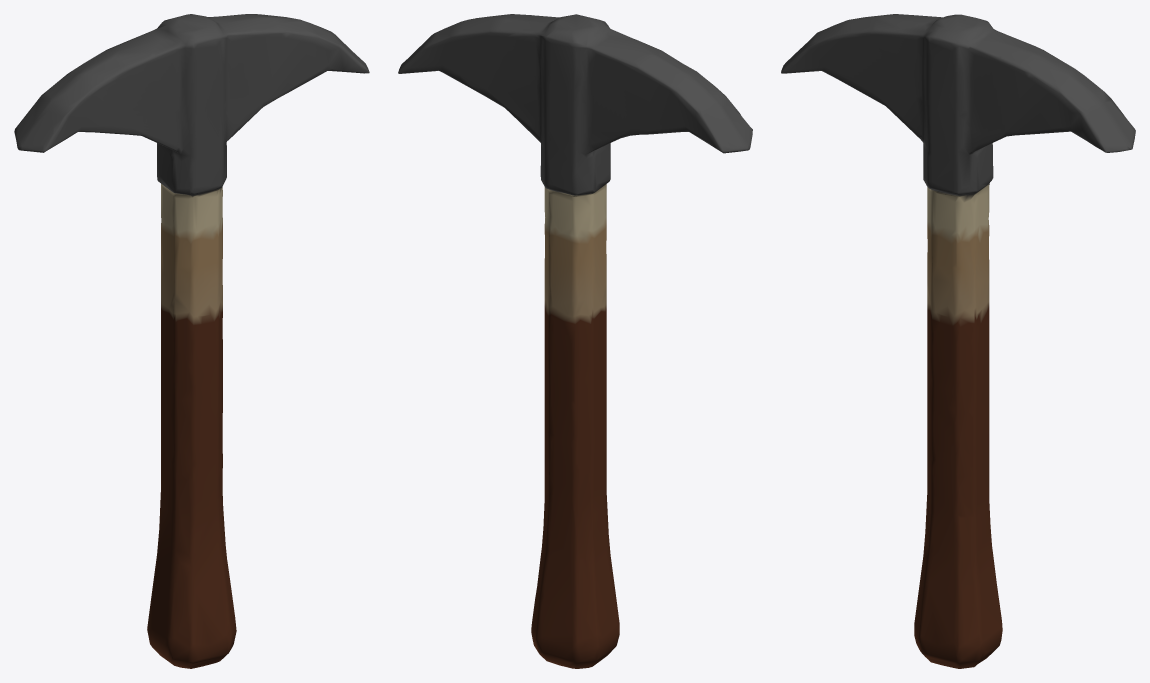
The model's file is gen3d-pickaxe-lod0.glb.
3 views of the same model, side by side, from view 1: azimuth 30°, elevation 25°; view 2: azimuth 150°, elevation 25°; view 3: azimuth 330°, elevation 25° (orthographic).
Parts seen in each view (by area): view 1: part_0; view 2: part_0; view 3: part_0.
Part boxes in pixels (x1,y1,x2,y2): part_0: (14,14,369,668); part_0: (398,14,752,668); part_0: (781,14,1135,668).
Bounding box in the file's own units: 0.575 × 1 × 0.1116.
